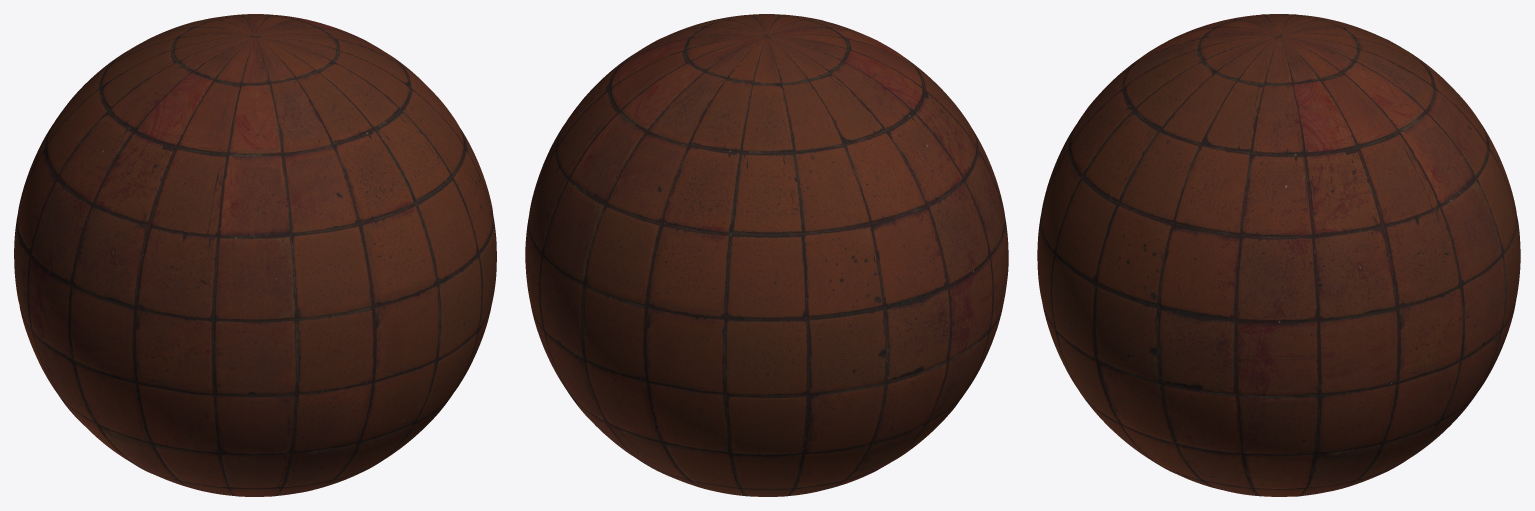
File: terracotta_floor_tiles_1k.gltf
The picture shows the model from 3 angles, left to right: view 1: azimuth 30°, elevation 25°; view 2: azimuth 150°, elevation 25°; view 3: azimuth 270°, elevation 25°; orthographic projection.
Parts seen in each view (by area): view 1: sphere_gltf; view 2: sphere_gltf; view 3: sphere_gltf.
Part boxes in pixels (x1,y1,x2,y2): sphere_gltf: (14, 14, 496, 496); sphere_gltf: (525, 14, 1008, 496); sphere_gltf: (1037, 14, 1520, 496).
Bounding box in the file's own units: 2.08 × 2.08 × 2.08.
Materials: 1 (1 with a texture image).
